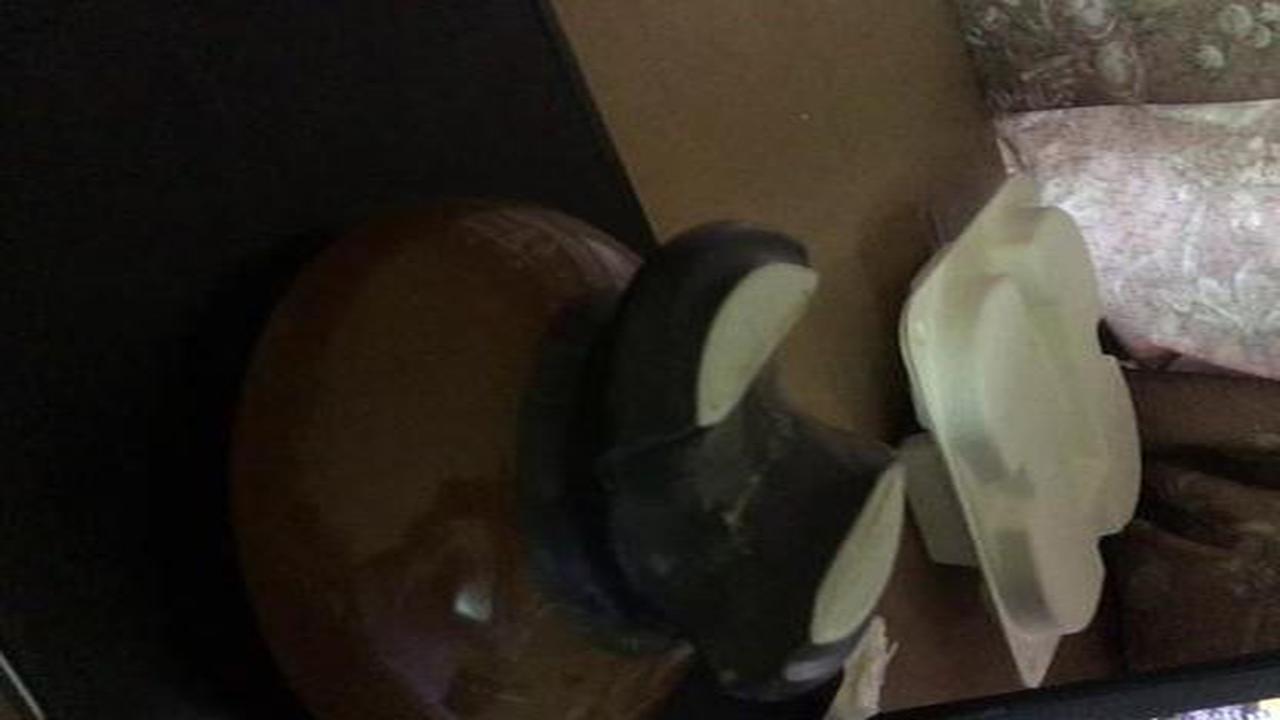insulator_pin: (185, 177, 942, 714)
